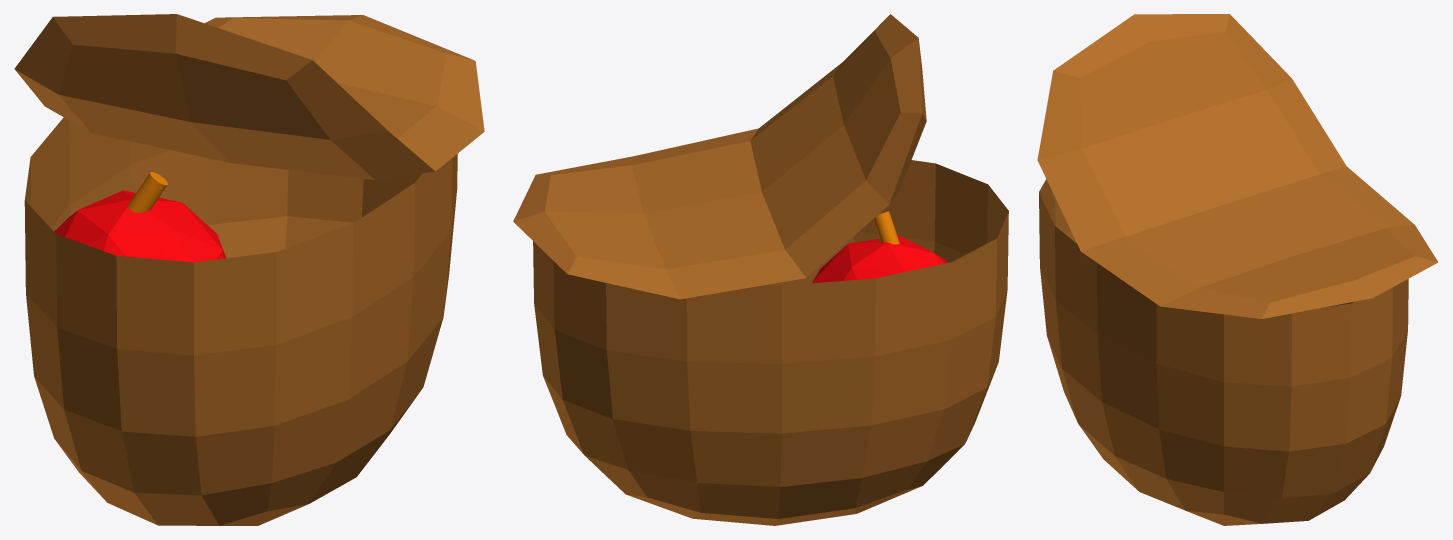
File: picnic.fbx
3 renders of one model, left to right at view 1: azimuth 30°, elevation 25°; view 2: azimuth 150°, elevation 25°; view 3: azimuth 270°, elevation 25°, orthographic. The views are drawn at different scales.
Visible parts, largest first — view 1: basket, top, apple, apple stem; view 2: basket, top, apple, apple stem; view 3: top, basket.
Boxes of the visible parts, box(x1,y1,x2,y2) form: basket: box(24, 117, 457, 525); top: box(14, 14, 484, 180); apple: box(54, 190, 225, 262); apple stem: box(128, 172, 167, 212); basket: box(533, 160, 1008, 525); top: box(513, 14, 926, 299); apple: box(812, 235, 947, 283); apple stem: box(873, 211, 899, 244); top: box(1037, 14, 1438, 318); basket: box(1039, 179, 1408, 525).
Size of what is drawn, in the model's own units: 267 by 291 by 240.
